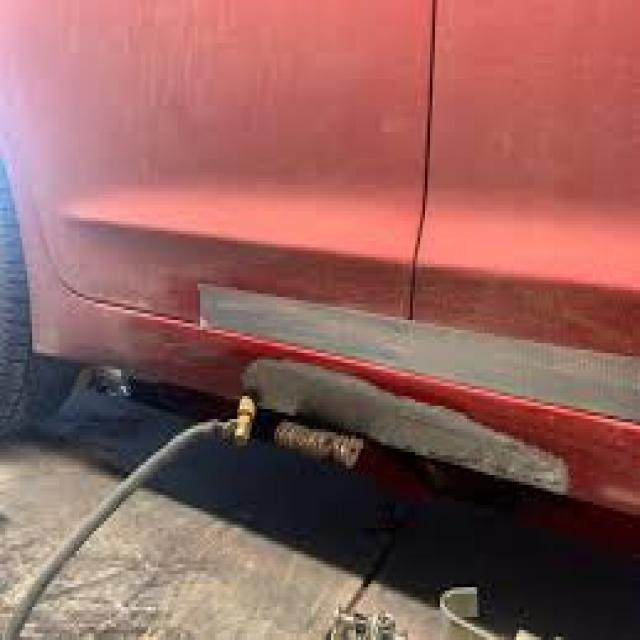dent-or-scratch: (185, 268, 640, 499)
